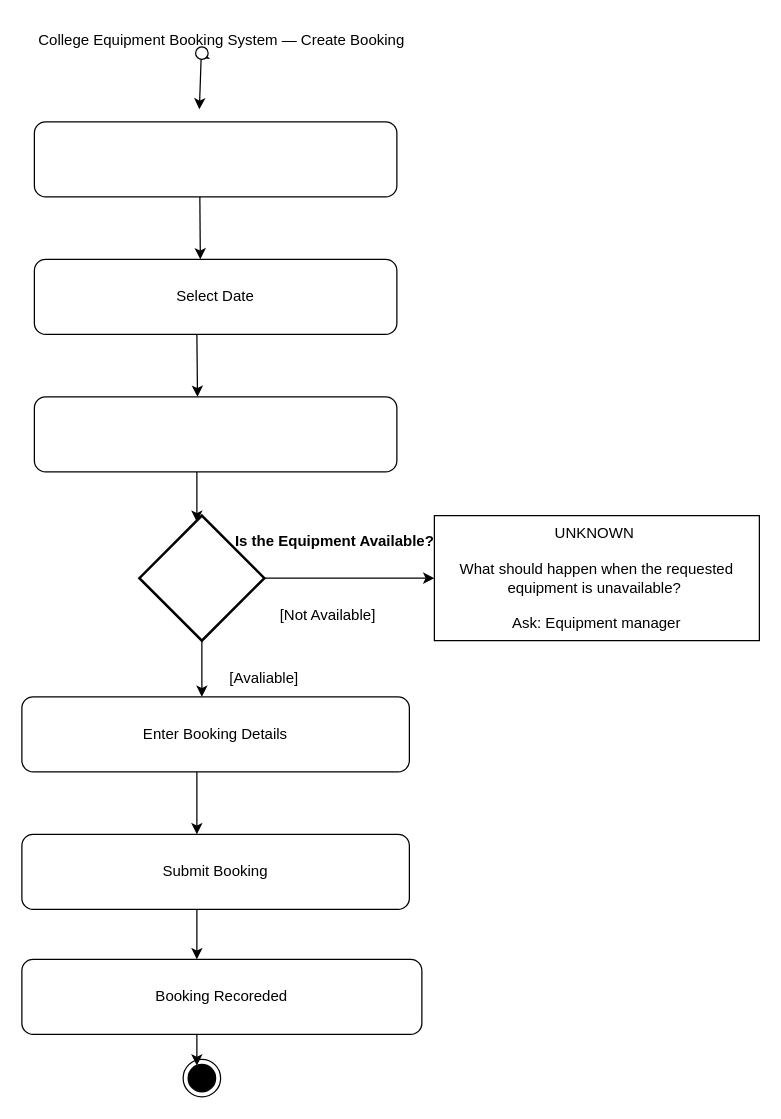
Image size: 781x1119. Some labels were removed from this diagram. The centre of each missing label's shape, as x and y in pixels:
"Check Availability" belongs at (215,434).
"Select Equipment" belongs at (215,159).
